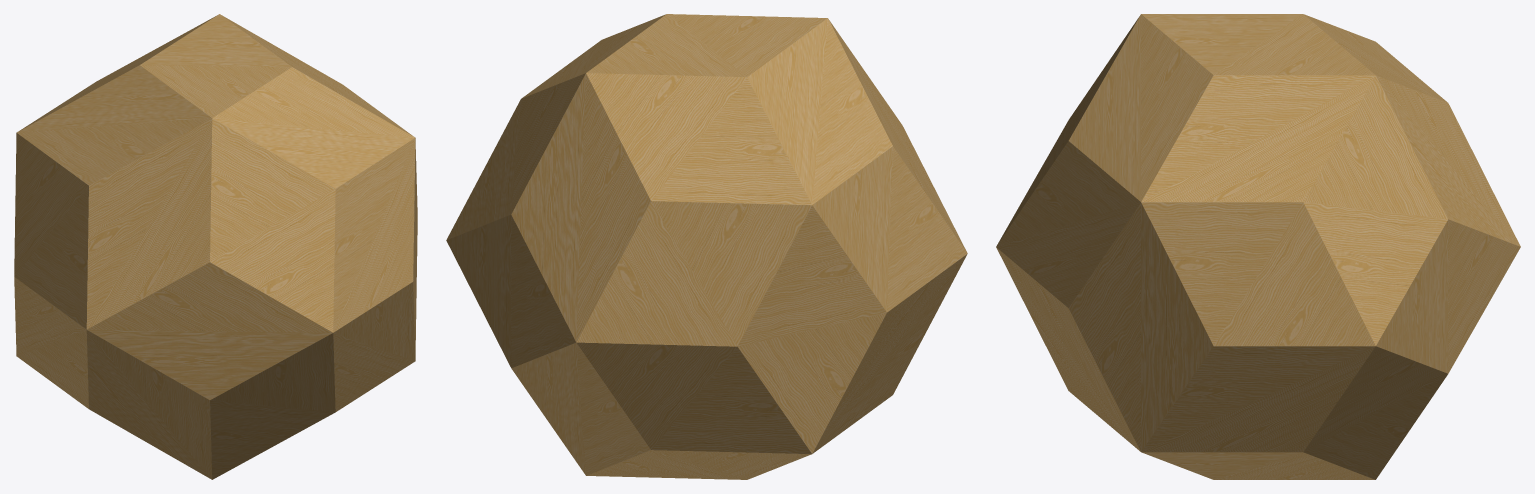
The model's file is RhombicTriacontahedron.glb.
The picture shows the model from 3 angles, left to right: view 1: azimuth 30°, elevation 25°; view 2: azimuth 150°, elevation 25°; view 3: azimuth 270°, elevation 25°; orthographic projection. The views are drawn at different scales.
Visible parts, largest first — view 1: 000_model; view 2: 000_model; view 3: 000_model.
Part boxes in pixels (box(x1,y1,x2,y2)): 000_model: box(14, 14, 417, 479); 000_model: box(446, 14, 967, 479); 000_model: box(996, 14, 1520, 479).
Bounding box in the file's own units: 4.34 × 4.13 × 4.85.
1 material, 1 textured.
